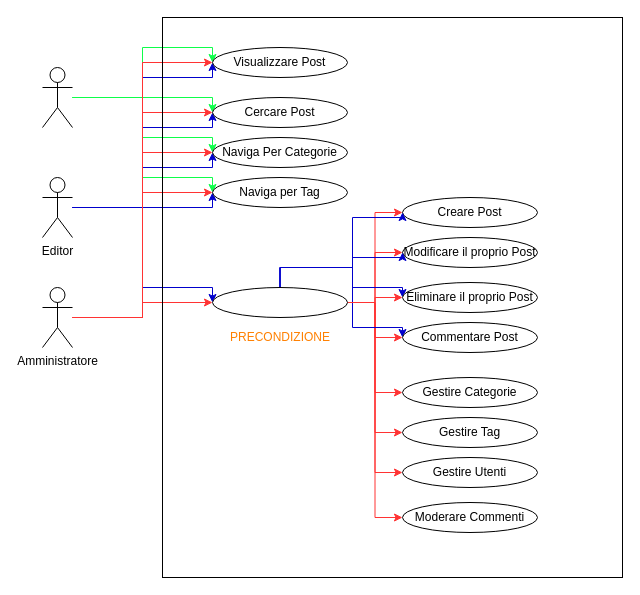
The diagram is 640 pixels wide and 595 high, and some of its shapes have lost their labels. The centre of each missing label's shape, as x and y in pixels:
"Login" belongs at (x=280, y=302).
"Visitatore" belongs at (x=57, y=97).
